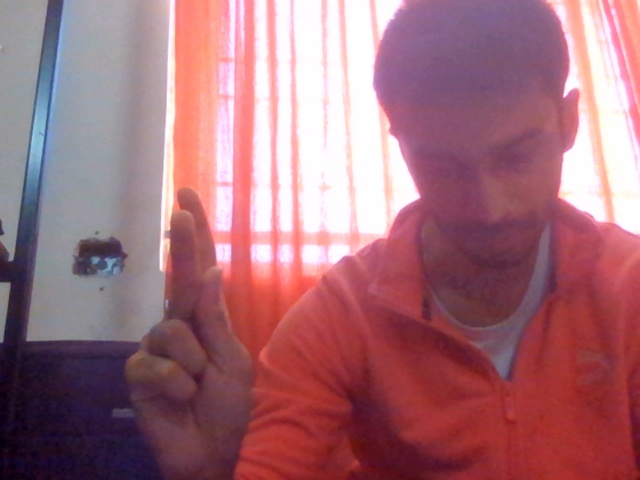K: (126, 177, 276, 480)
